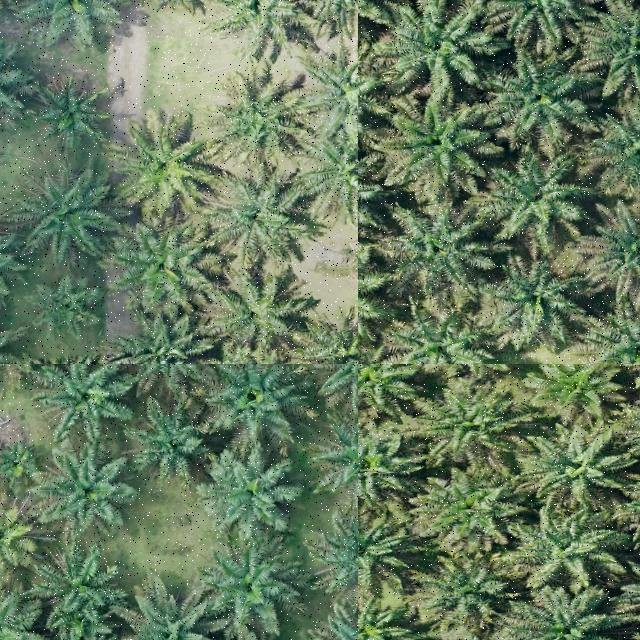Ganoderma: (121, 133, 195, 201), (0, 505, 29, 562)
